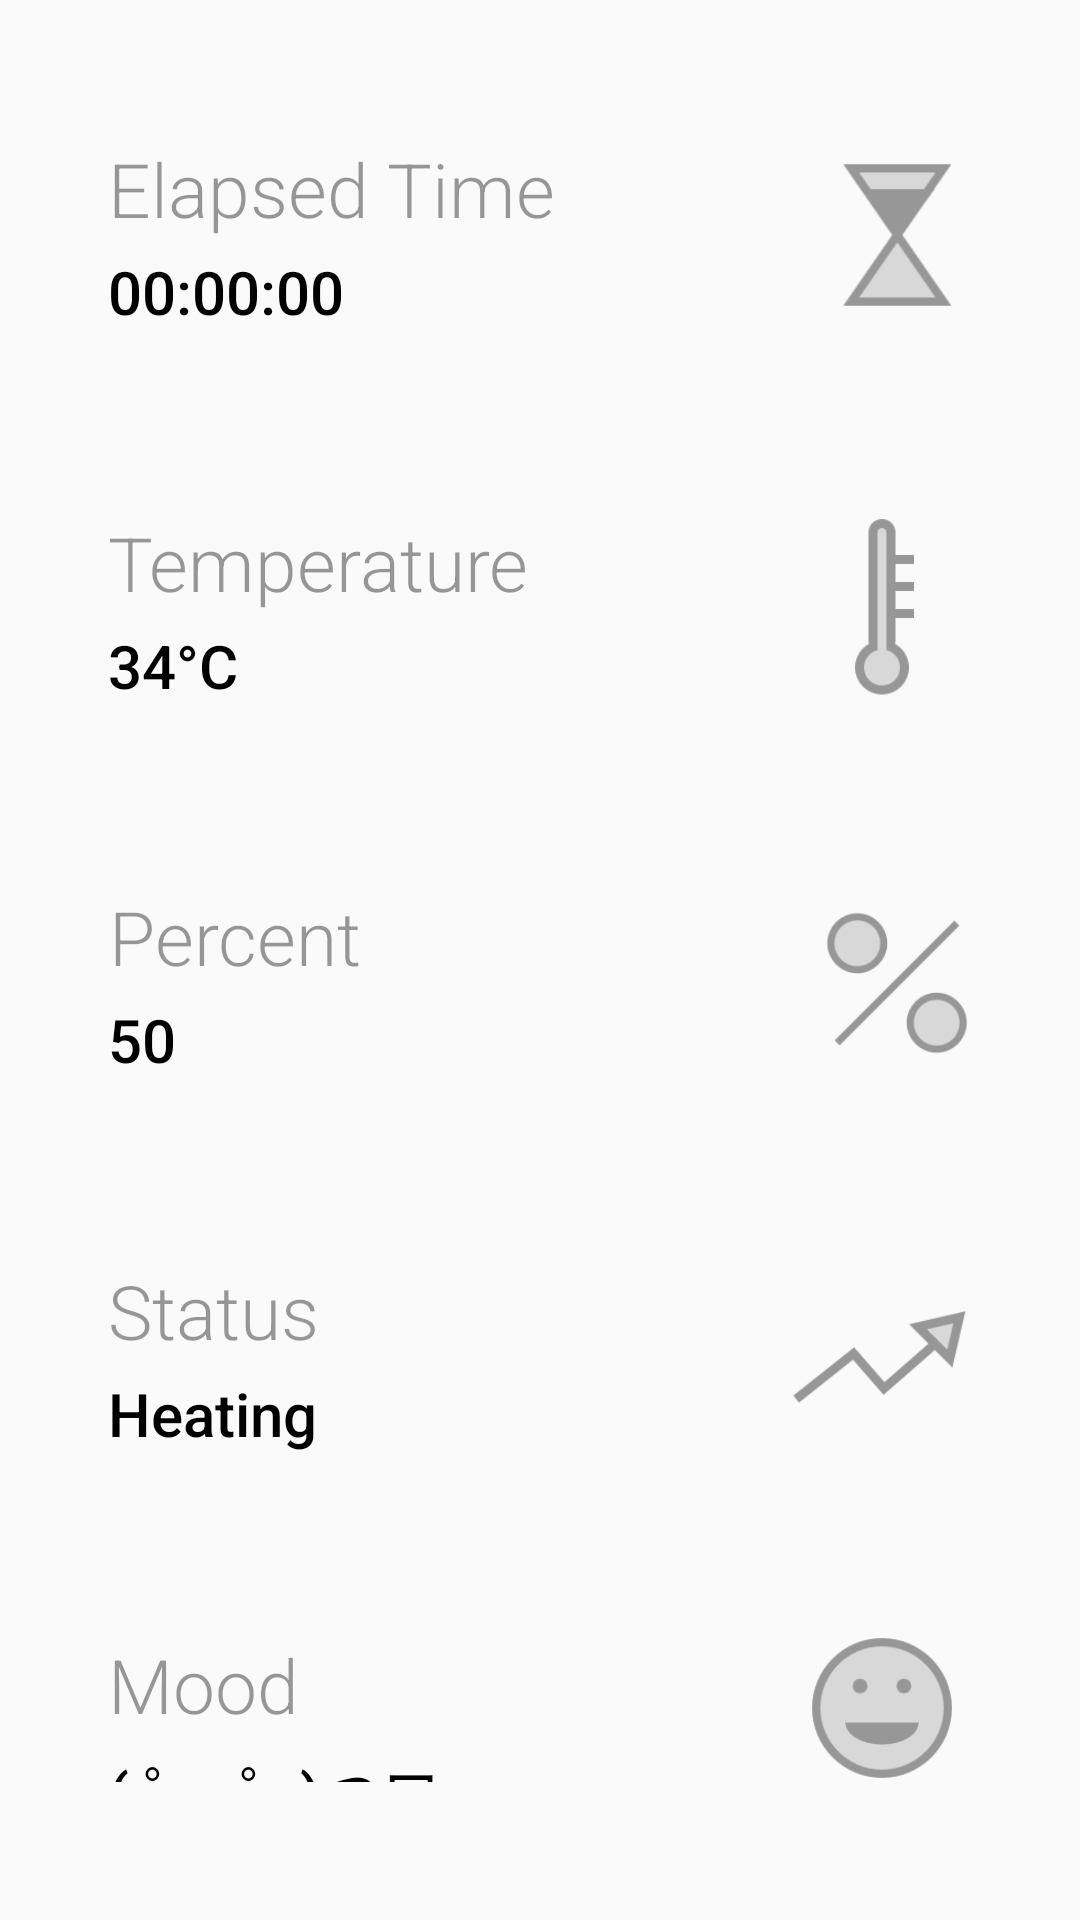

Where icons sit on this 1080x1920 app screen, as (x1, y1, x2, y2):
face: (812, 1638, 952, 1778)
percent: (827, 913, 967, 1053)
timer: (843, 164, 951, 306)
